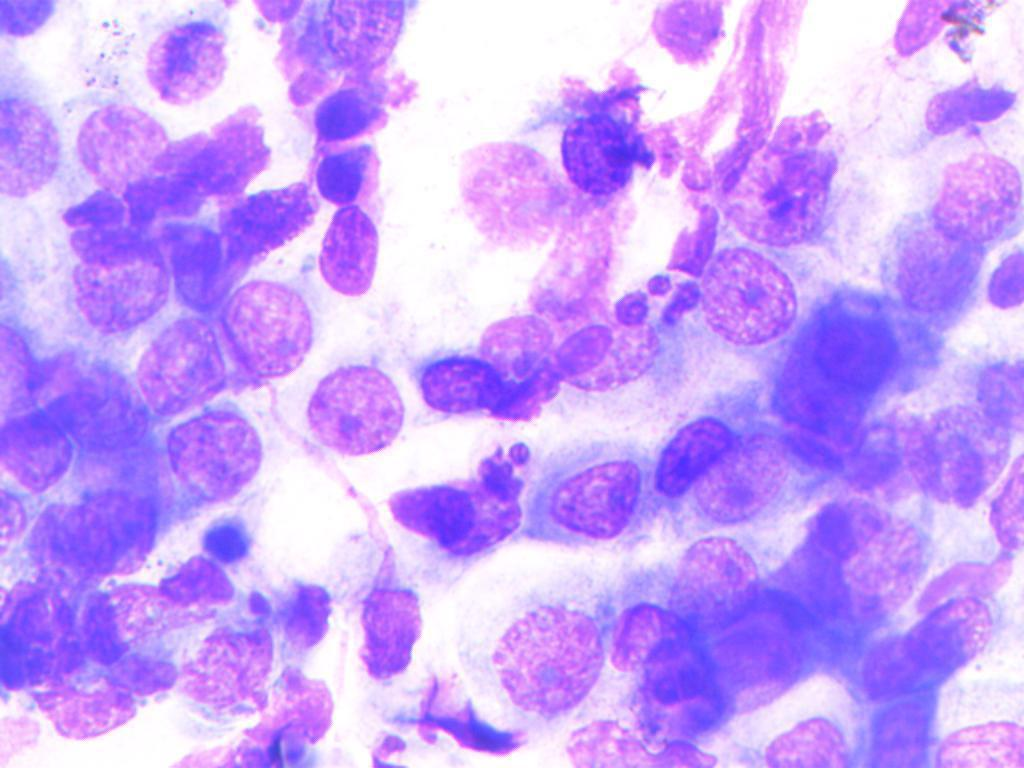epithelial: (711, 113, 851, 245), (806, 487, 939, 622), (521, 437, 657, 562), (478, 593, 604, 725), (894, 379, 1013, 512), (682, 243, 824, 347), (24, 479, 164, 584), (450, 124, 563, 253), (53, 227, 173, 345), (215, 155, 330, 272), (157, 94, 266, 204), (811, 278, 902, 409), (883, 212, 990, 322), (683, 430, 803, 528), (339, 557, 432, 683), (122, 315, 240, 414), (64, 92, 171, 201), (541, 304, 661, 401), (33, 349, 152, 442), (921, 136, 1024, 243), (227, 274, 319, 389), (163, 618, 281, 707), (557, 98, 651, 209), (306, 358, 406, 461), (471, 296, 557, 414), (667, 528, 764, 632), (654, 382, 739, 500), (163, 404, 264, 503), (561, 703, 708, 768), (143, 10, 237, 105), (733, 696, 852, 768), (903, 592, 1000, 677), (909, 62, 1016, 137), (848, 689, 943, 768), (312, 202, 387, 299), (925, 705, 1024, 768), (6, 399, 75, 486), (846, 631, 931, 699), (0, 90, 58, 188), (982, 232, 1024, 327)
lymphocyte: (419, 355, 513, 424)
neutrophil: (509, 278, 614, 397), (606, 258, 720, 360), (292, 72, 403, 149), (231, 572, 332, 654), (295, 140, 393, 211), (183, 507, 271, 574), (465, 422, 531, 509), (58, 173, 131, 240)
